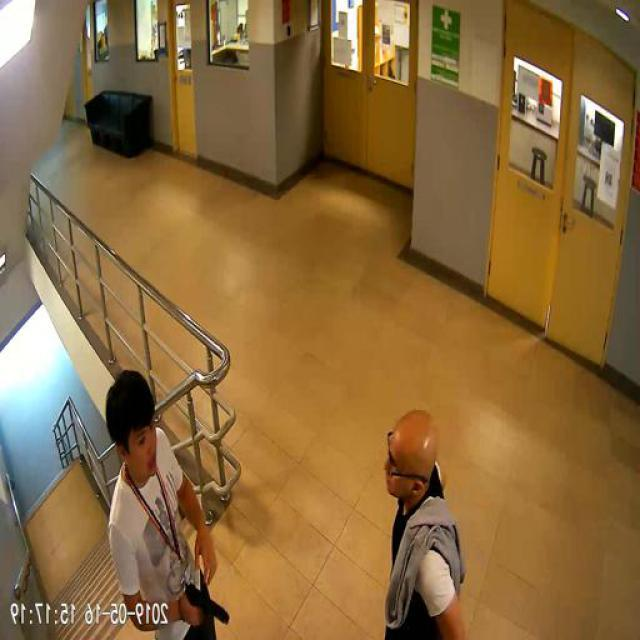Gun: (186, 581, 232, 625)
